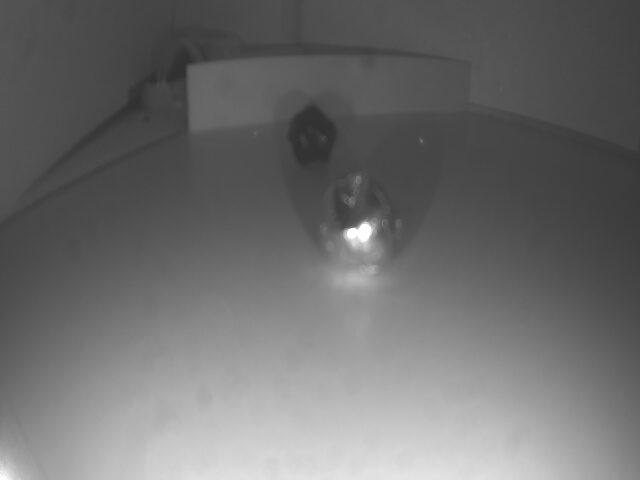Dead: (291, 103, 338, 166)
Live: (318, 177, 406, 281)
Point: (187, 58, 475, 135)
